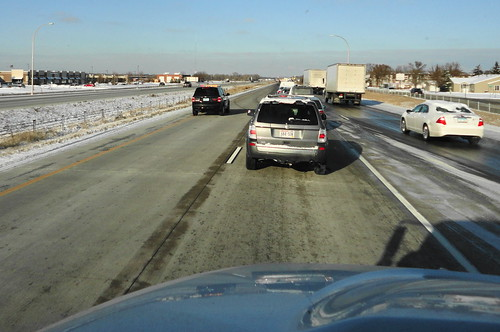car: (245, 100, 337, 176), (393, 97, 481, 146), (194, 82, 232, 116)
sky: (7, 1, 500, 65)
street: (5, 86, 500, 332)
truck: (321, 62, 366, 109)
